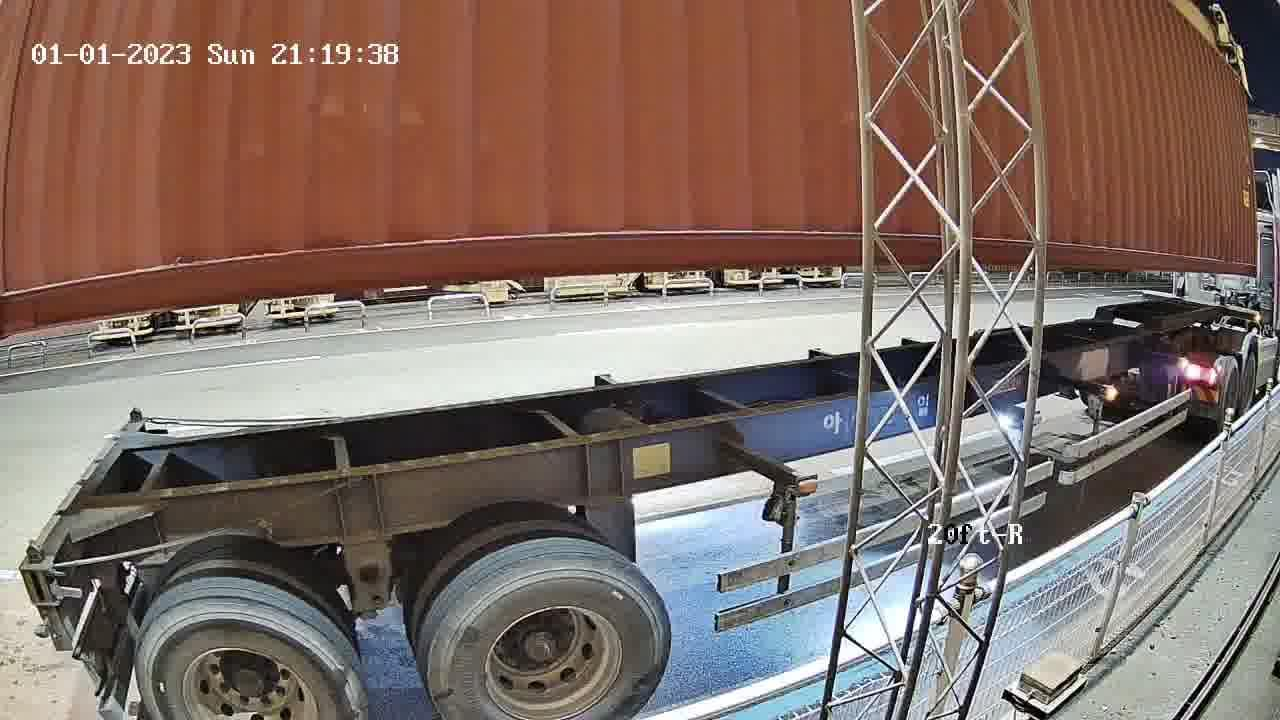Chassis: (21, 420, 149, 568)
Cone: (15, 540, 59, 606), (121, 406, 145, 432)
Tire: (436, 563, 670, 715), (140, 600, 365, 710)
